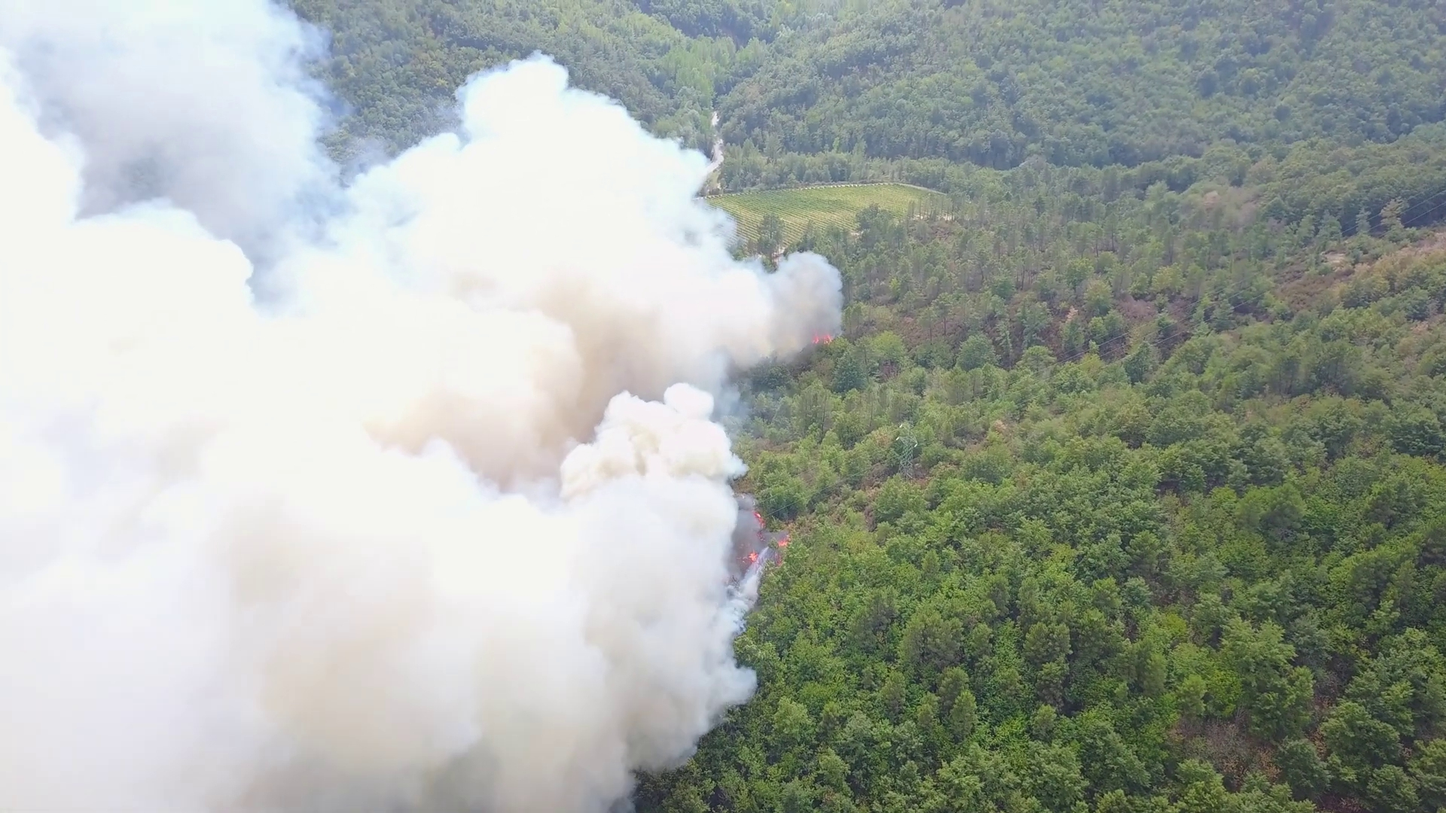forest_fire: (734, 495, 789, 575), (812, 331, 832, 346)
